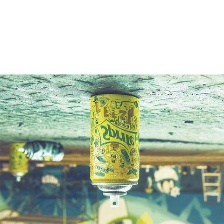aerosol_cans: (87, 89, 141, 209)
